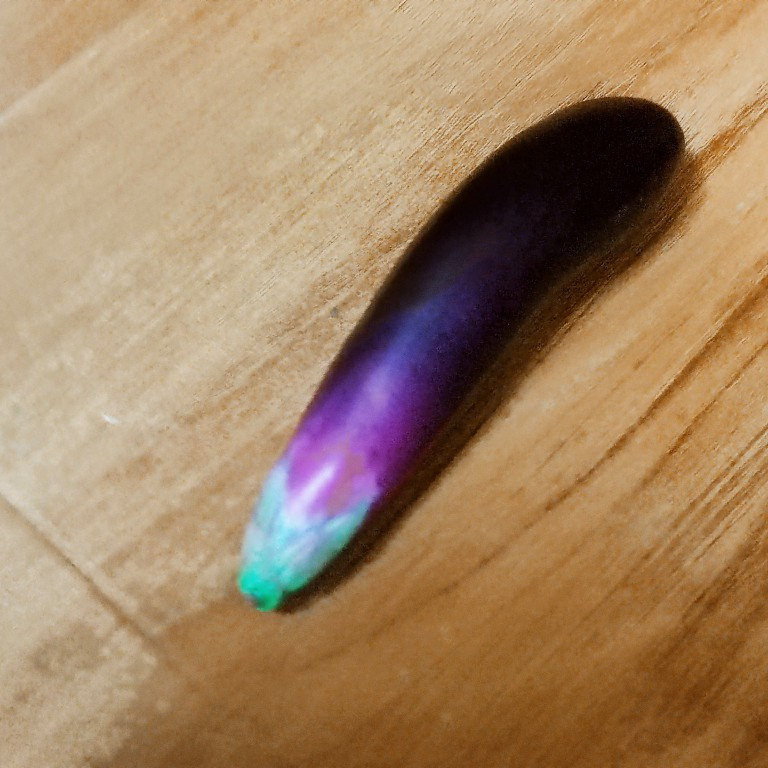fruit_eggplant: (235, 91, 688, 617)
